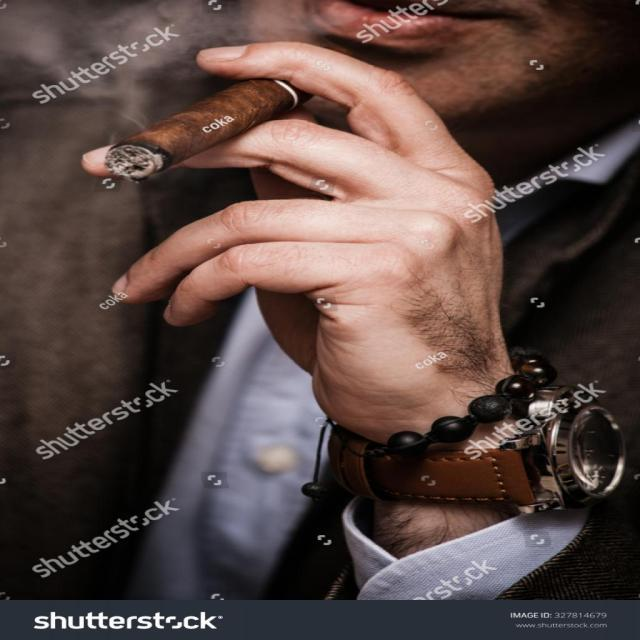smoking: (96, 56, 312, 192)
